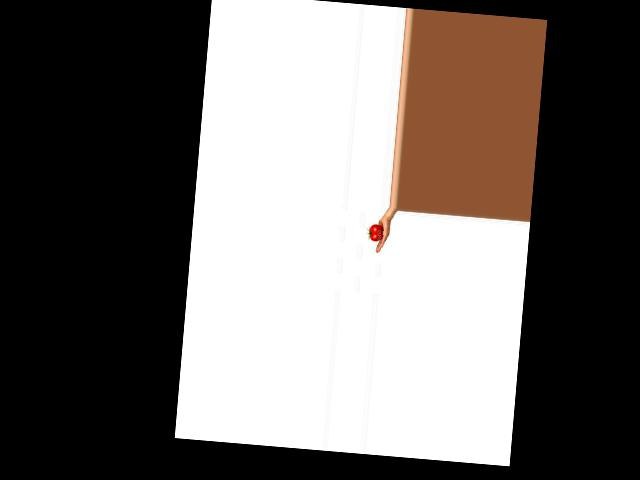tomato: (368, 224, 384, 242)
